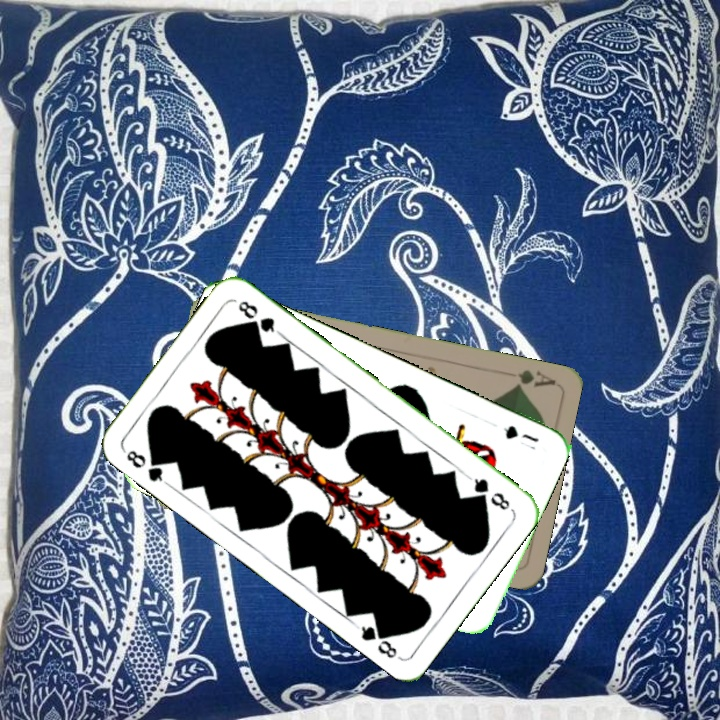G8: (120, 446, 171, 488), (464, 472, 513, 513)
GA: (509, 365, 557, 392)
GU: (499, 421, 542, 445)
